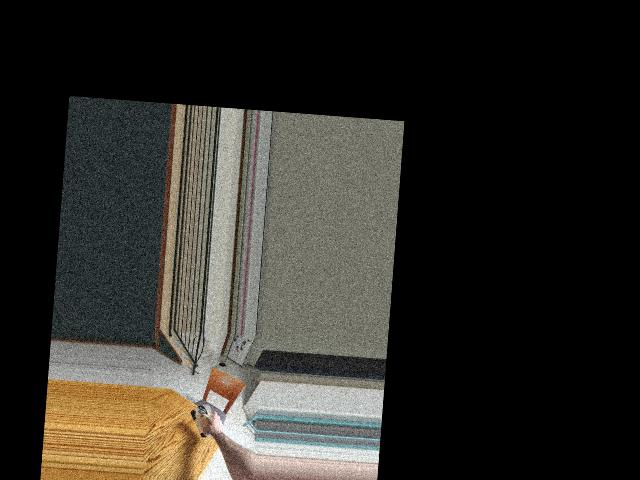cheese: (188, 403, 223, 441)
